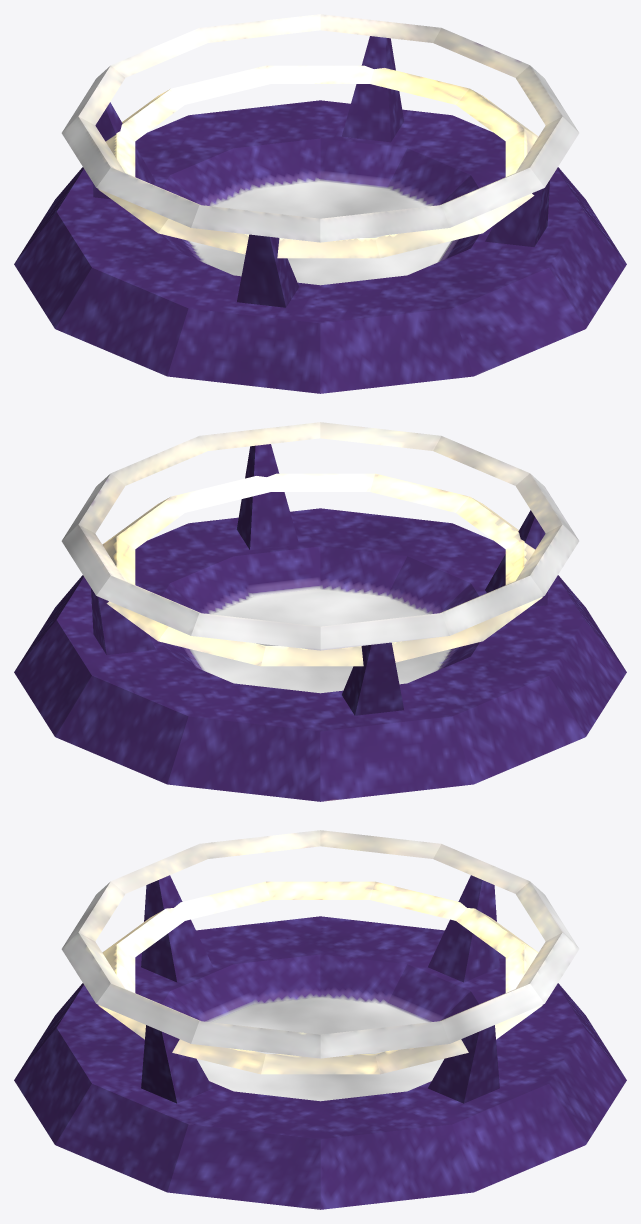
The model's file is charger.glb.
3 renders of one model, top to bottom at view 1: azimuth 30°, elevation 25°; view 2: azimuth 150°, elevation 25°; view 3: azimuth 270°, elevation 25°, orthographic.
Parts seen in each view (by area): view 1: Circle.001; view 2: Circle.001; view 3: Circle.001.
Part boxes in pixels (x1,y1,x2,y2): Circle.001: [14, 14, 626, 393]; Circle.001: [14, 422, 626, 801]; Circle.001: [14, 830, 626, 1209].
Size of the model in its own units: 0.8 by 0.213 by 0.8.
Materials: 1 (1 with a texture image).
